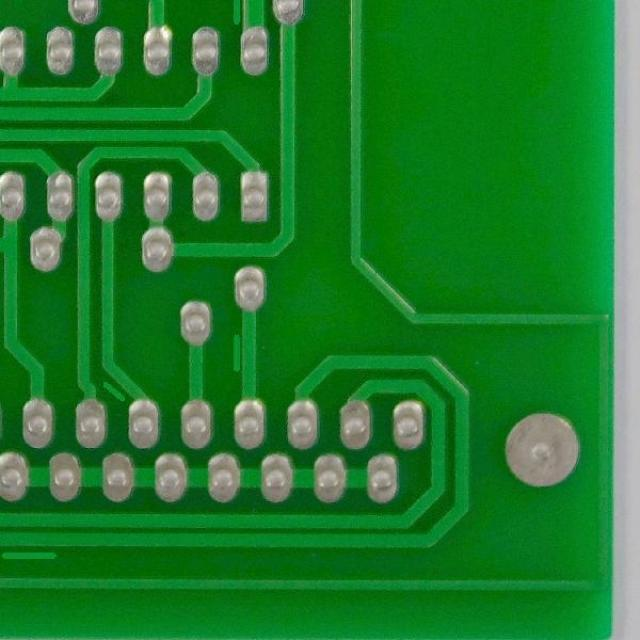spurious_copper: (1, 546, 63, 573), (224, 332, 251, 378), (92, 376, 130, 408), (226, 1, 248, 28)
